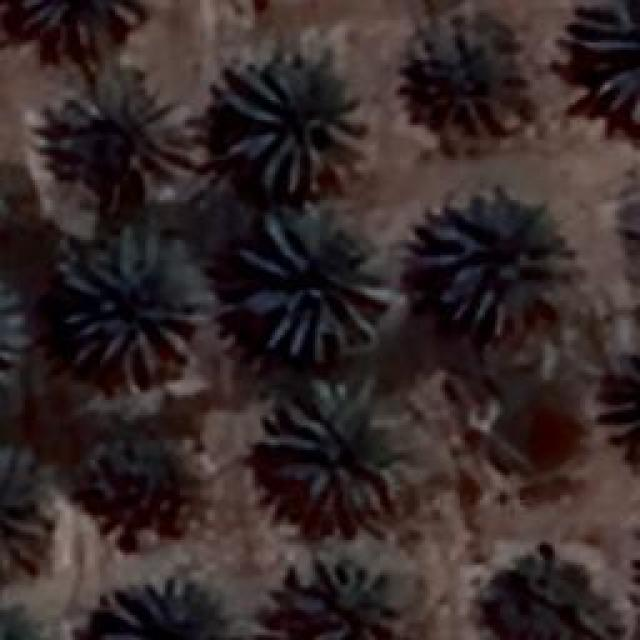PalmTree: (55, 138, 620, 403), (242, 210, 388, 362), (417, 190, 565, 335), (59, 240, 202, 380), (222, 62, 368, 192), (272, 380, 412, 512), (57, 70, 205, 192), (466, 552, 626, 636), (405, 18, 520, 132), (98, 435, 208, 543), (28, 135, 55, 510), (280, 555, 400, 635), (95, 574, 240, 638), (20, 0, 147, 62), (578, 0, 638, 118), (0, 265, 25, 393), (0, 601, 67, 640), (622, 174, 640, 298), (628, 185, 640, 299)
